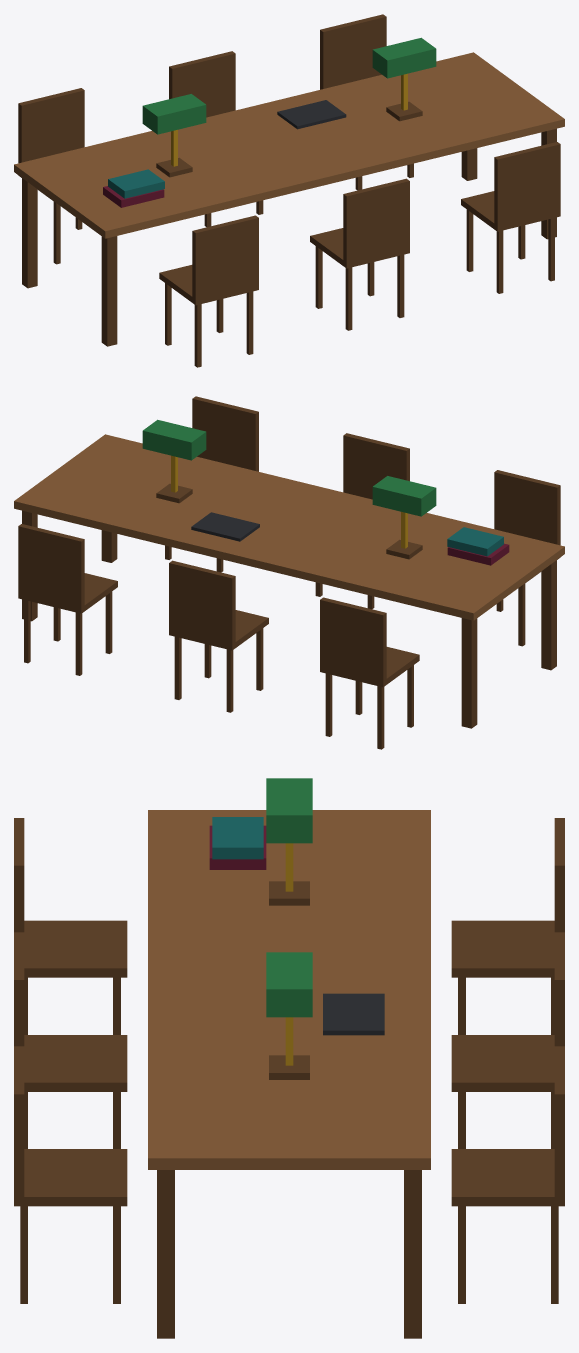
File: prop_library-table.glb
3 renders of one model, top to bottom at view 1: azimuth 30°, elevation 25°; view 2: azimuth 150°, elevation 25°; view 3: azimuth 270°, elevation 25°, orthographic. The views are drawn at different scales.
Parts seen in each view (by area): view 1: body; view 2: body; view 3: body.
Boxes of the visible parts, bbox=[...] form: body: bbox=[14, 14, 564, 367]; body: bbox=[14, 396, 564, 749]; body: bbox=[14, 778, 564, 1338].
Bounding box in the file's own units: 3.2 × 1.22 × 2.14.
